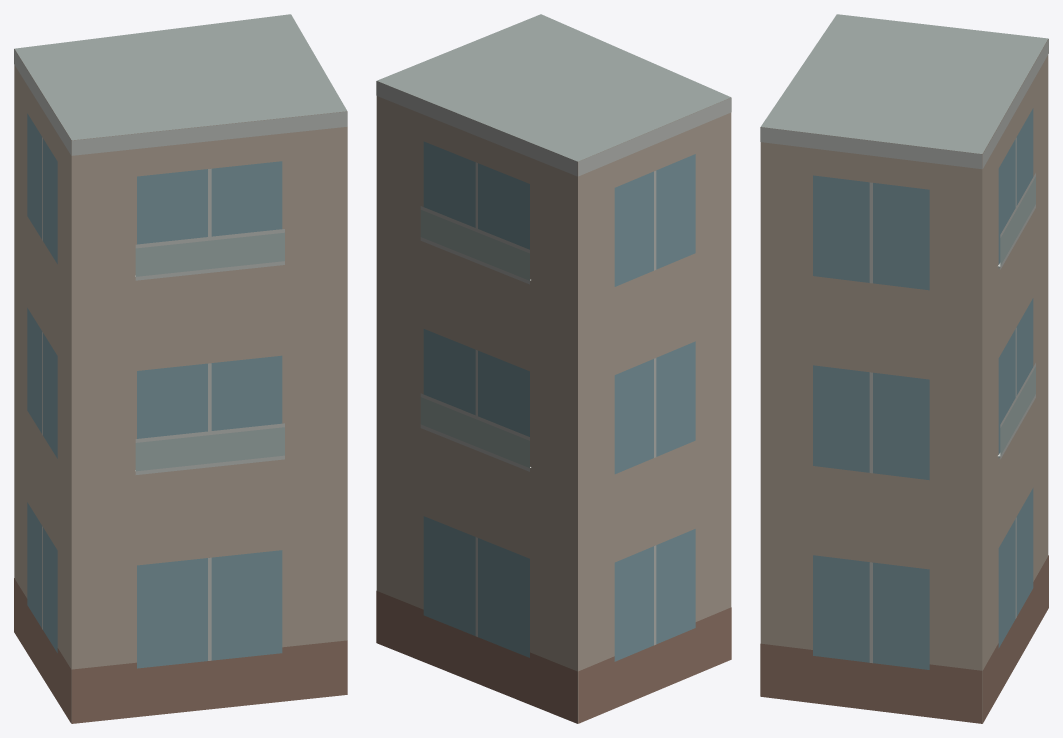
File: survey-upis-32466258.glb
3 renders of one model, left to right at view 1: azimuth 30°, elevation 25°; view 2: azimuth 150°, elevation 25°; view 3: azimuth 270°, elevation 25°, orthographic. The views are drawn at different scales.
Visible parts, largest first — view 1: survey-upis-32466258.tmp; view 2: survey-upis-32466258.tmp; view 3: survey-upis-32466258.tmp.
Part boxes in pixels (bbox=[...]): survey-upis-32466258.tmp: bbox=[14, 14, 347, 723]; survey-upis-32466258.tmp: bbox=[376, 14, 731, 723]; survey-upis-32466258.tmp: bbox=[760, 14, 1048, 723].
Size of the model in its own units: 4.83 by 9.15 by 4.2.
